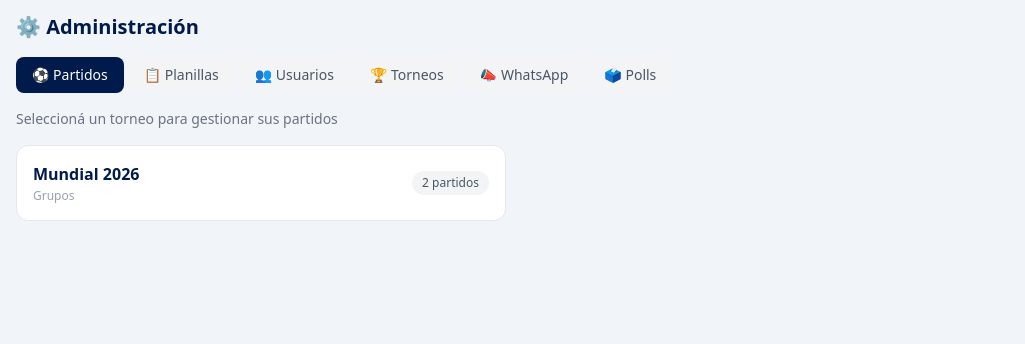
Scenario: Admin — PartidosTab › al seleccionar torneo, muestra partidos y permite volver
This screenshot has width=1025, height=344.
Click the text "Mundial 2026": (86, 174) [33,162,139,186]
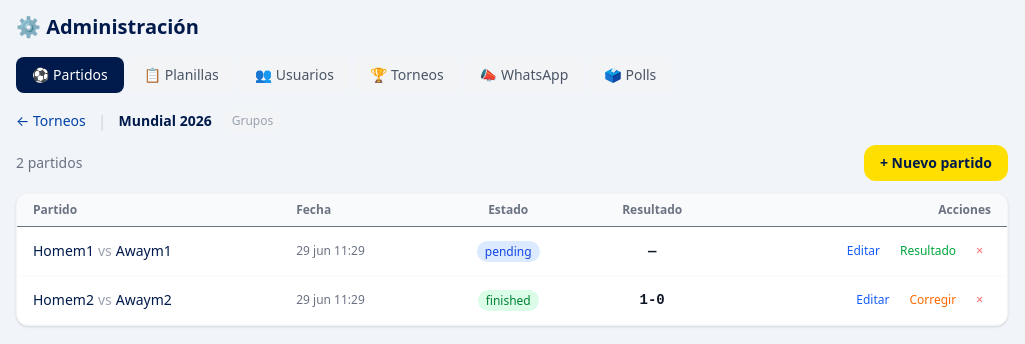
Now the button "+ Nuevo partido" is shown, box [864,145,1008,181]
Now the text "Homem1" is shown, box [33,241,94,260]
Now the text "Homem2" is shown, box [33,290,94,309]
Click the button "← Torneos": (51, 121) [16,111,86,131]
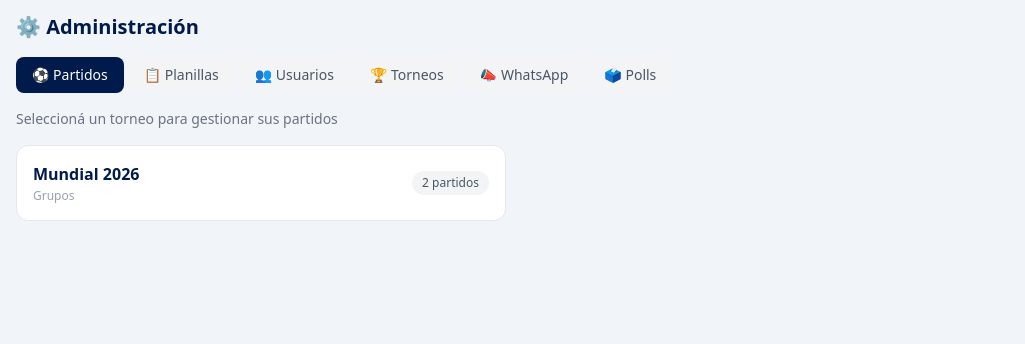
Now the button "+ Nuevo partido" is gone
